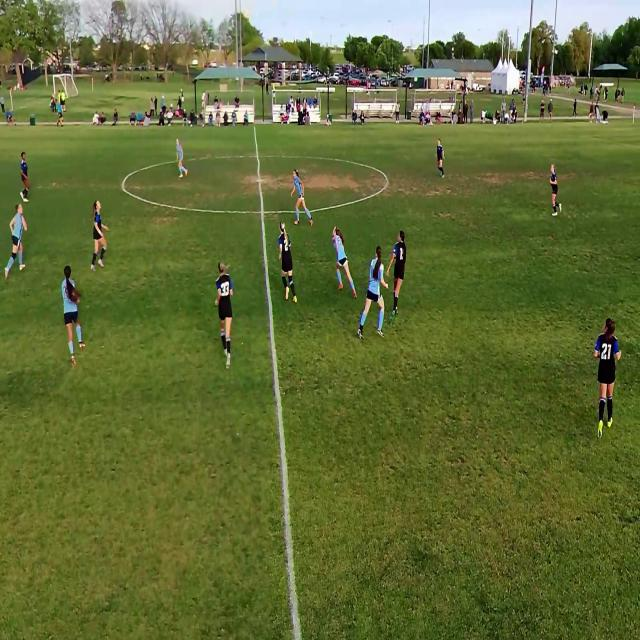team1: (596, 321, 624, 436), (215, 263, 235, 369), (390, 227, 408, 320), (91, 196, 111, 273), (278, 226, 295, 303), (19, 149, 32, 200), (551, 164, 563, 216), (437, 140, 445, 177)
team2: (358, 247, 388, 341), (62, 264, 86, 363), (331, 227, 358, 293), (8, 204, 29, 276), (291, 170, 314, 228), (175, 138, 188, 182)
